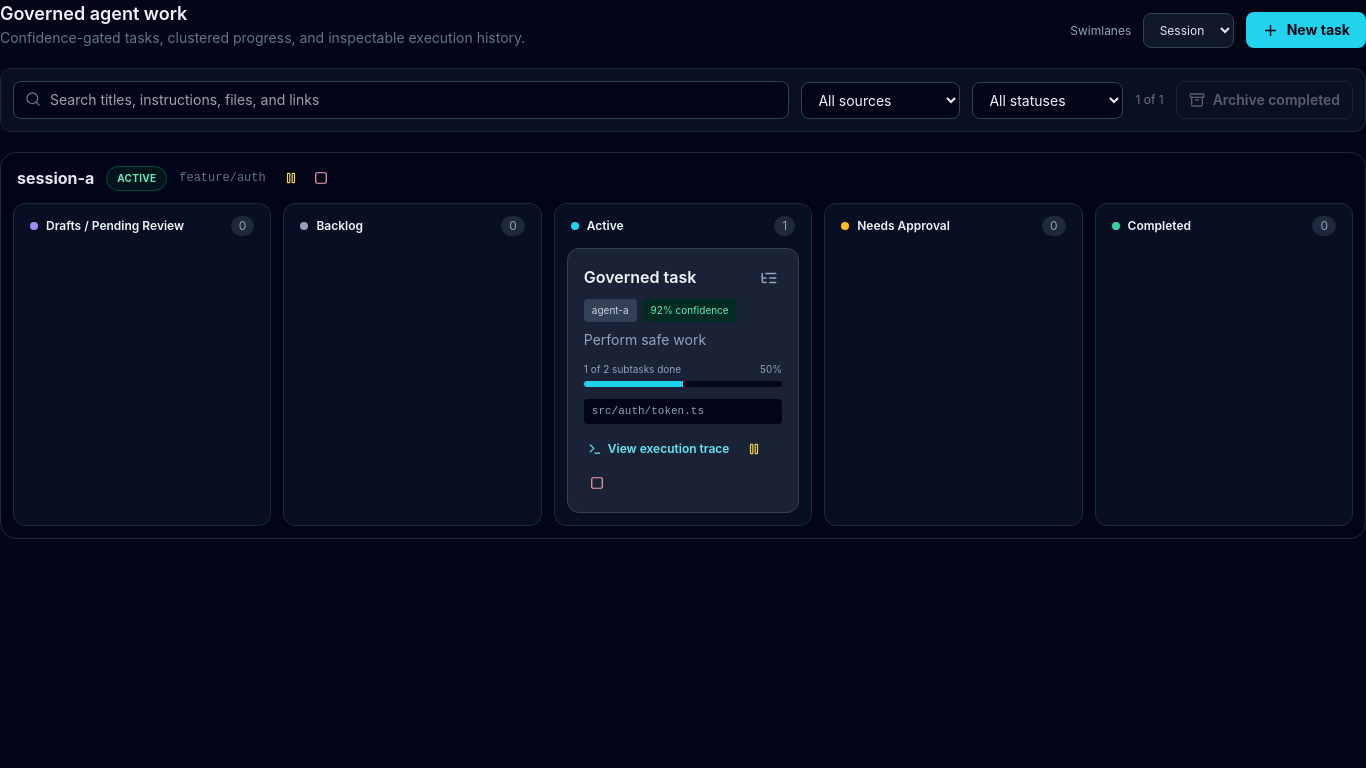
Test: KanbanBoard governance view › opens the exact redacted execution trace from a task card
Click the button "View execution trace": click(659, 448) x1=584 y1=436 x2=734 y2=460
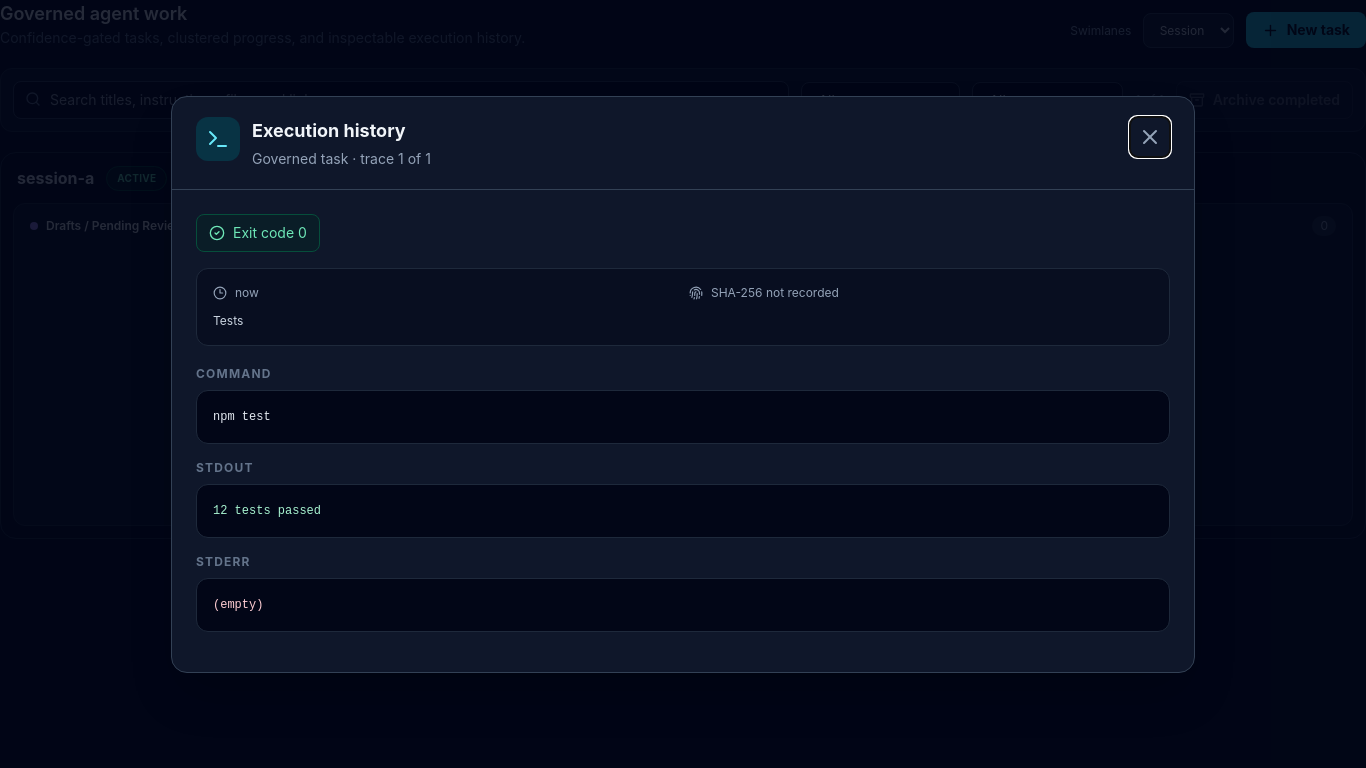
Expected: the dialog "Execution history" is shown
Expected: the text "npm test" is shown, x1=196 y1=390 x2=1170 y2=444
Expected: the text "12 tests passed" is shown, x1=196 y1=484 x2=1170 y2=538
Click the button named "close execution history": click(1150, 136) x1=1130 y1=116 x2=1170 y2=156
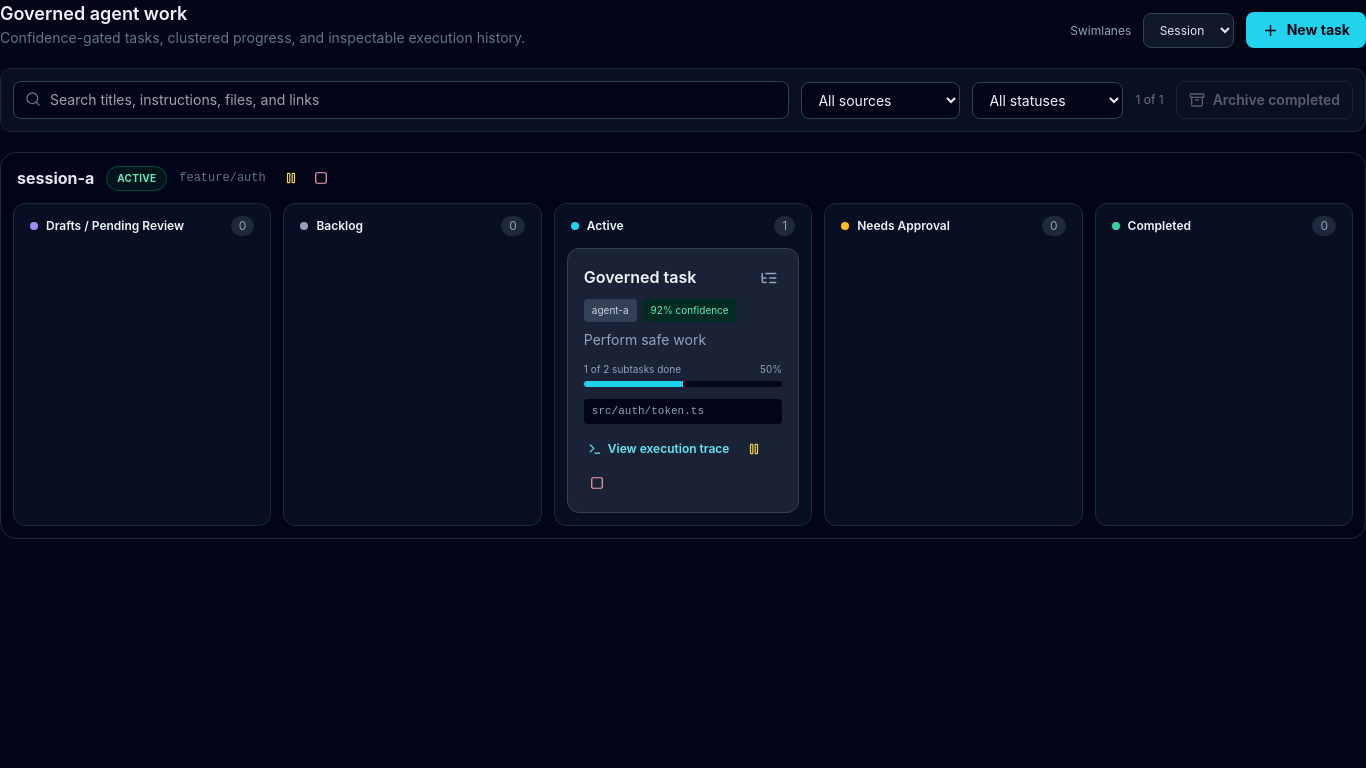
Expected: the dialog is gone
